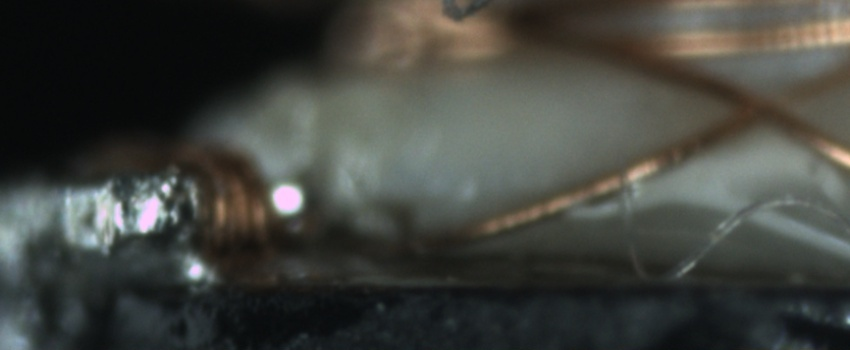CL: (726, 74, 800, 132)
TE: (160, 137, 293, 267)
